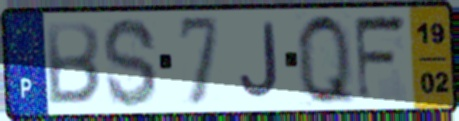7: (176, 13, 222, 110)
B: (45, 20, 103, 107)
F: (352, 12, 411, 105)
J: (238, 20, 281, 100)
Q: (293, 10, 359, 109)
S: (101, 15, 160, 110)
